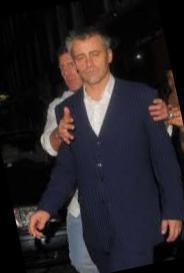Drunk: (70, 40, 106, 84)
